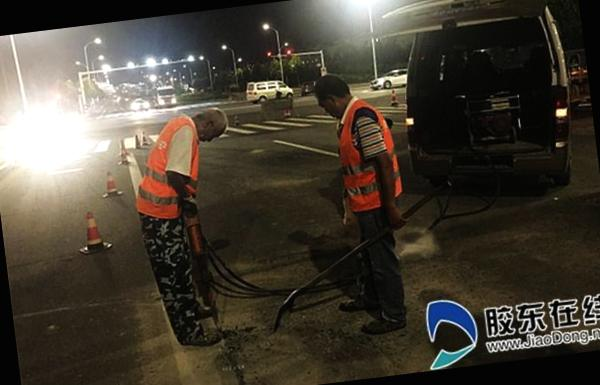person: (301, 65, 422, 341), (128, 102, 252, 362)
